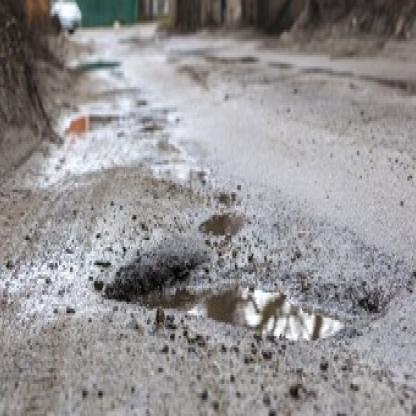pothole: (100, 233, 387, 354)
